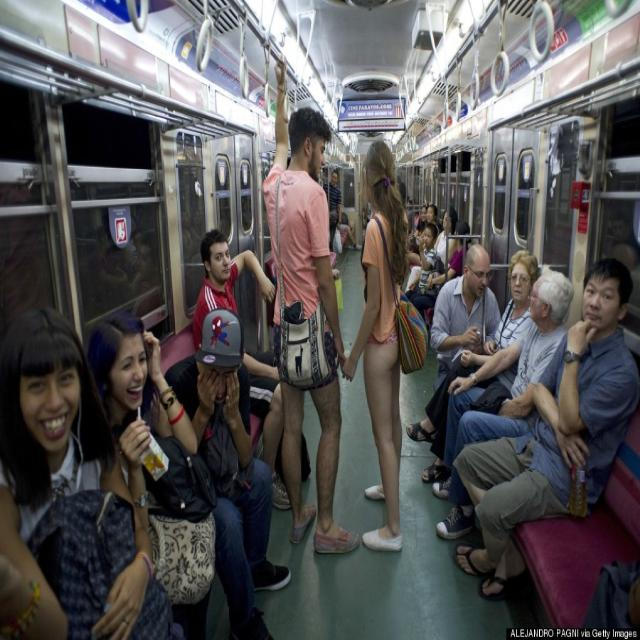body: (453, 253, 639, 606), (0, 304, 190, 640), (260, 52, 362, 556), (158, 307, 294, 639), (430, 266, 576, 543), (339, 137, 430, 554), (404, 248, 541, 487), (192, 228, 292, 510), (82, 310, 198, 468), (2, 221, 167, 331), (427, 240, 503, 394), (405, 219, 473, 332), (403, 206, 459, 310), (600, 217, 639, 304), (407, 221, 439, 306), (322, 168, 344, 252), (396, 173, 420, 235), (407, 203, 428, 255), (419, 202, 440, 250), (338, 219, 362, 252)
